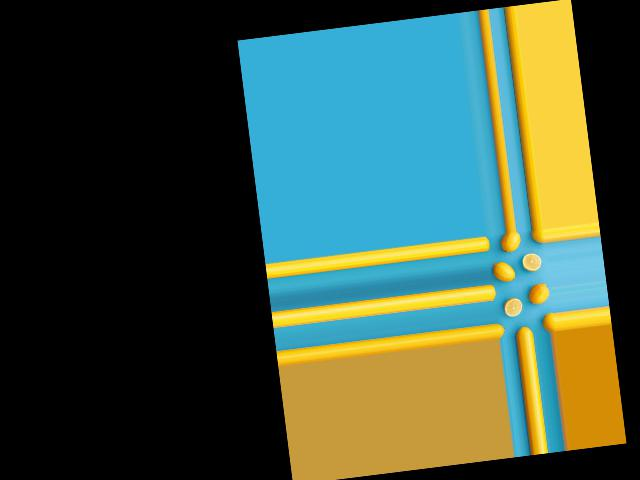lemon: (528, 227, 544, 246)
